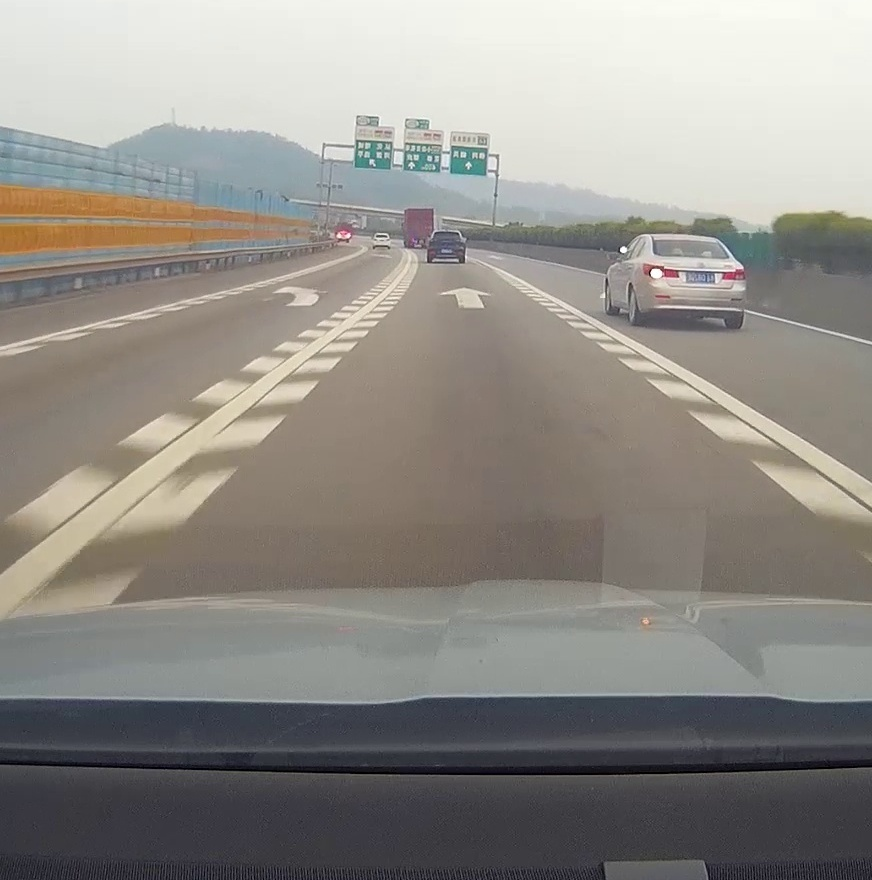L_light: (643, 263, 680, 278)
R_light: (721, 268, 744, 280)
T_light: (685, 241, 699, 244)
day-left: (639, 235, 746, 329)
